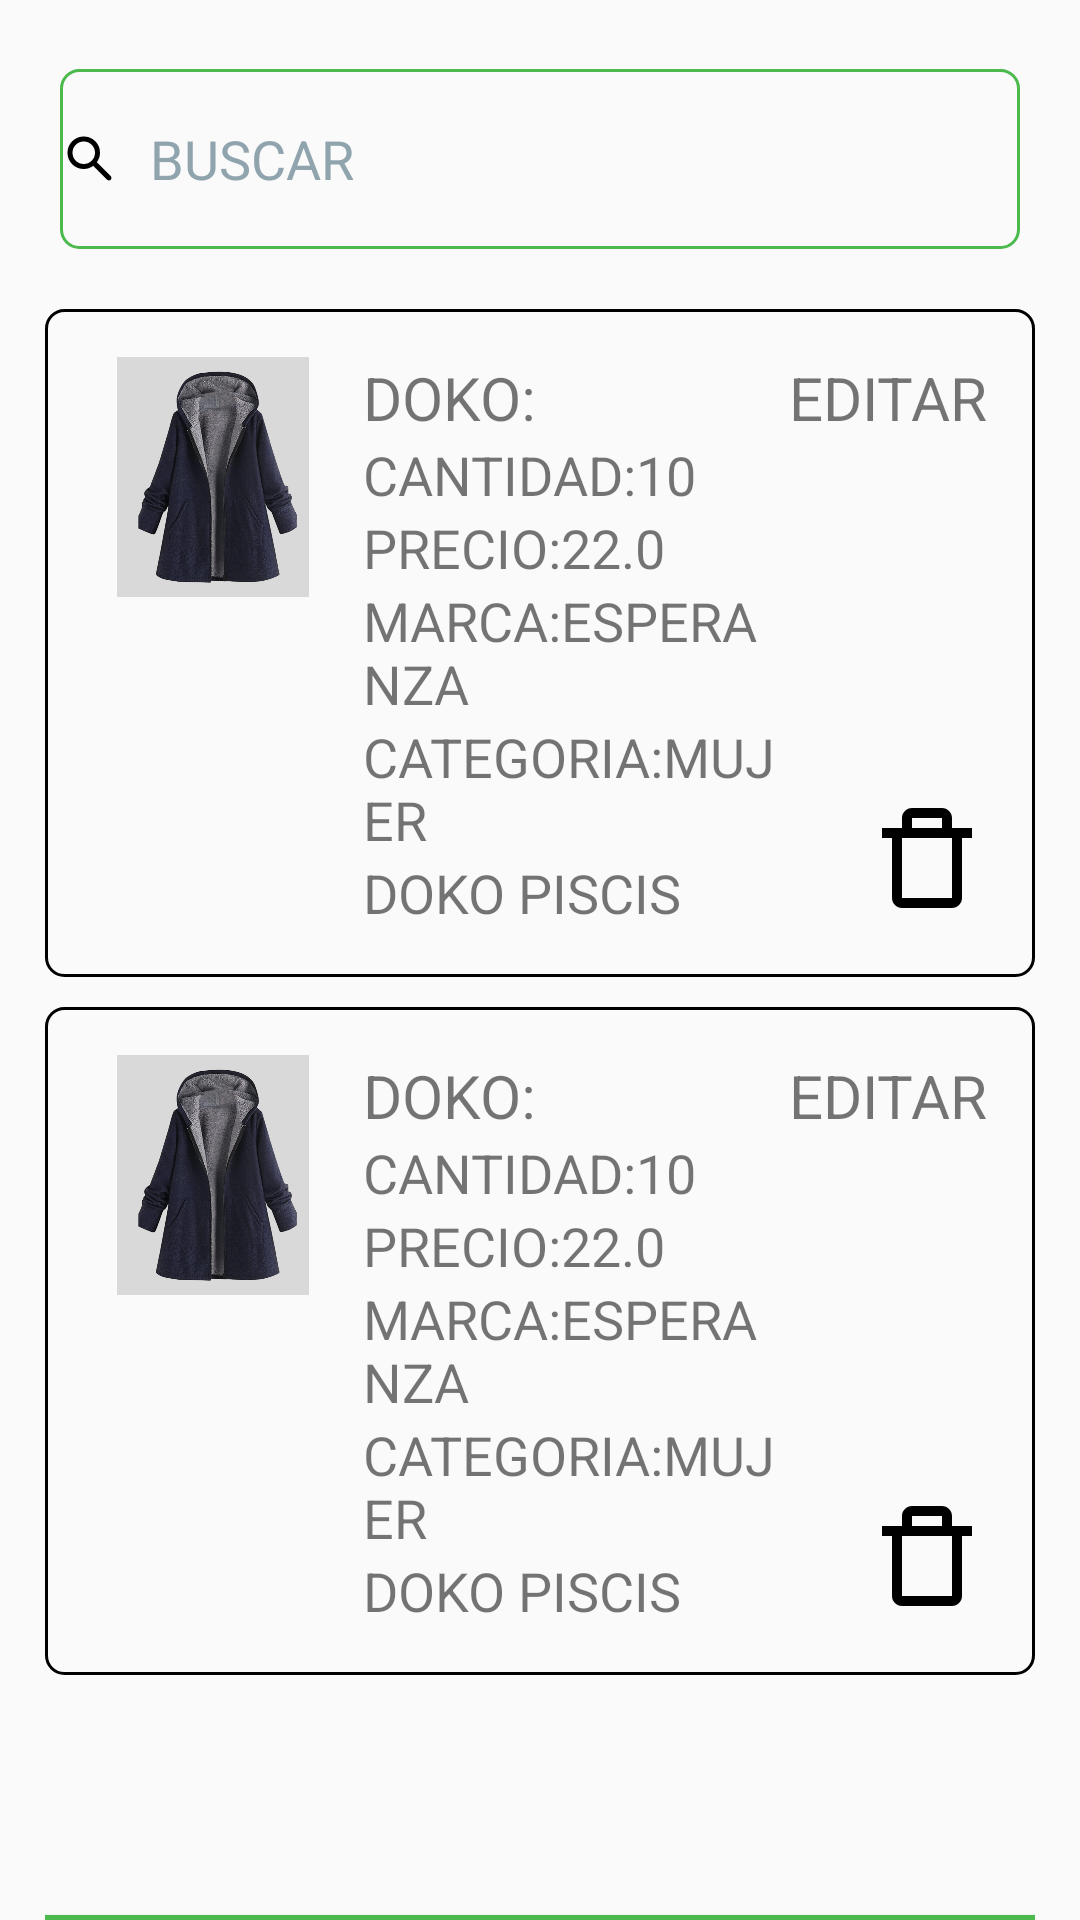

Icons on this 1080 x 1920 Android screen, each with its box as {"left": x1, "top": y1, "right": x2, "bottom": y2}:
basura: {"left": 882, "top": 808, "right": 972, "bottom": 908}, {"left": 882, "top": 1506, "right": 972, "bottom": 1606}
producto: {"left": 117, "top": 357, "right": 309, "bottom": 597}, {"left": 117, "top": 1055, "right": 309, "bottom": 1295}
